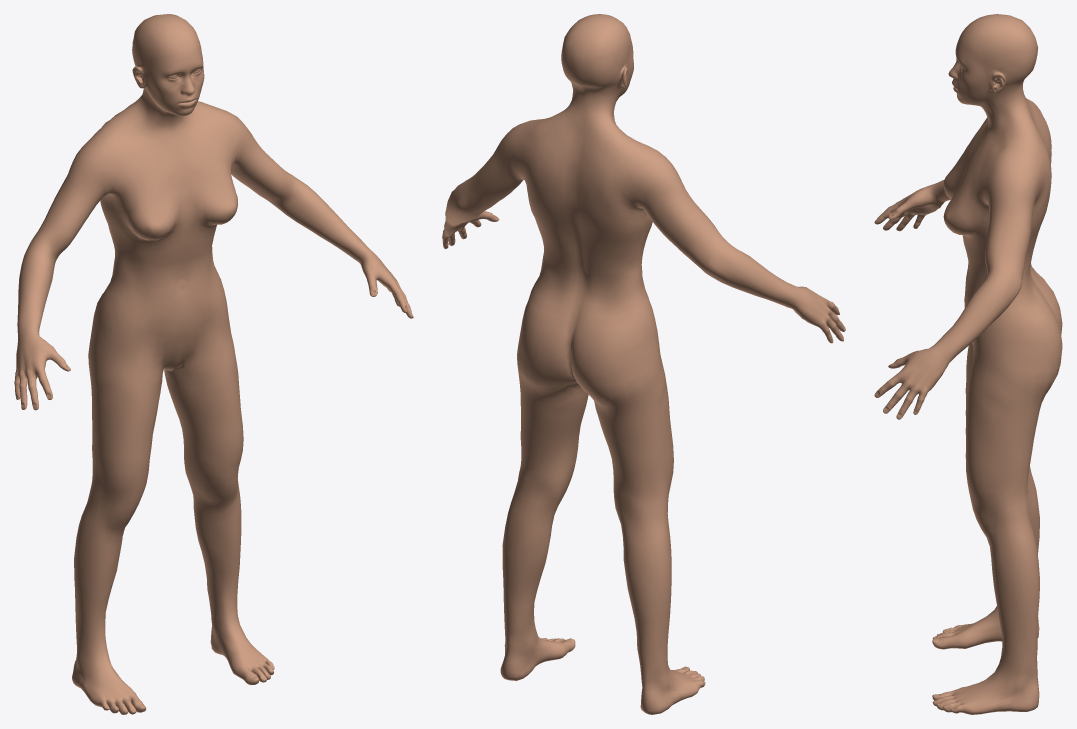
The model's file is avatar_athletic.glb.
3 views of the same model, side by side, from view 1: azimuth 30°, elevation 25°; view 2: azimuth 150°, elevation 25°; view 3: azimuth 270°, elevation 25° (orthographic).
Visible parts, largest first — view 1: geometry_0; view 2: geometry_0; view 3: geometry_0.
Part boxes in pixels (x1=…): geometry_0: x1=14, y1=14, x2=413, y2=714; geometry_0: x1=442, y1=14, x2=845, y2=714; geometry_0: x1=874, y1=14, x2=1062, y2=714.
Size of the model in its own units: 1.05 by 1.7 by 0.44.
